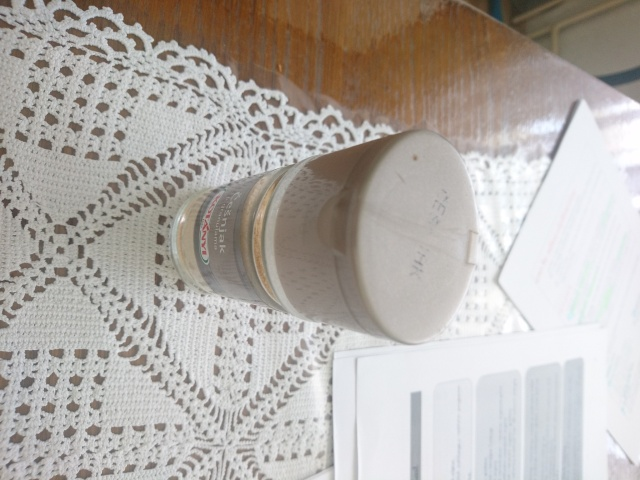Kotanyi Garlic Granules 70g: (166, 125, 482, 349)
